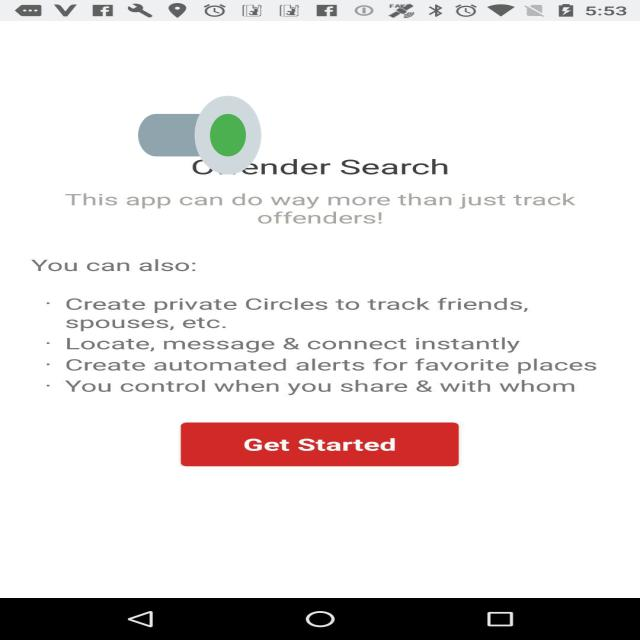social proof: (138, 62, 261, 208)
